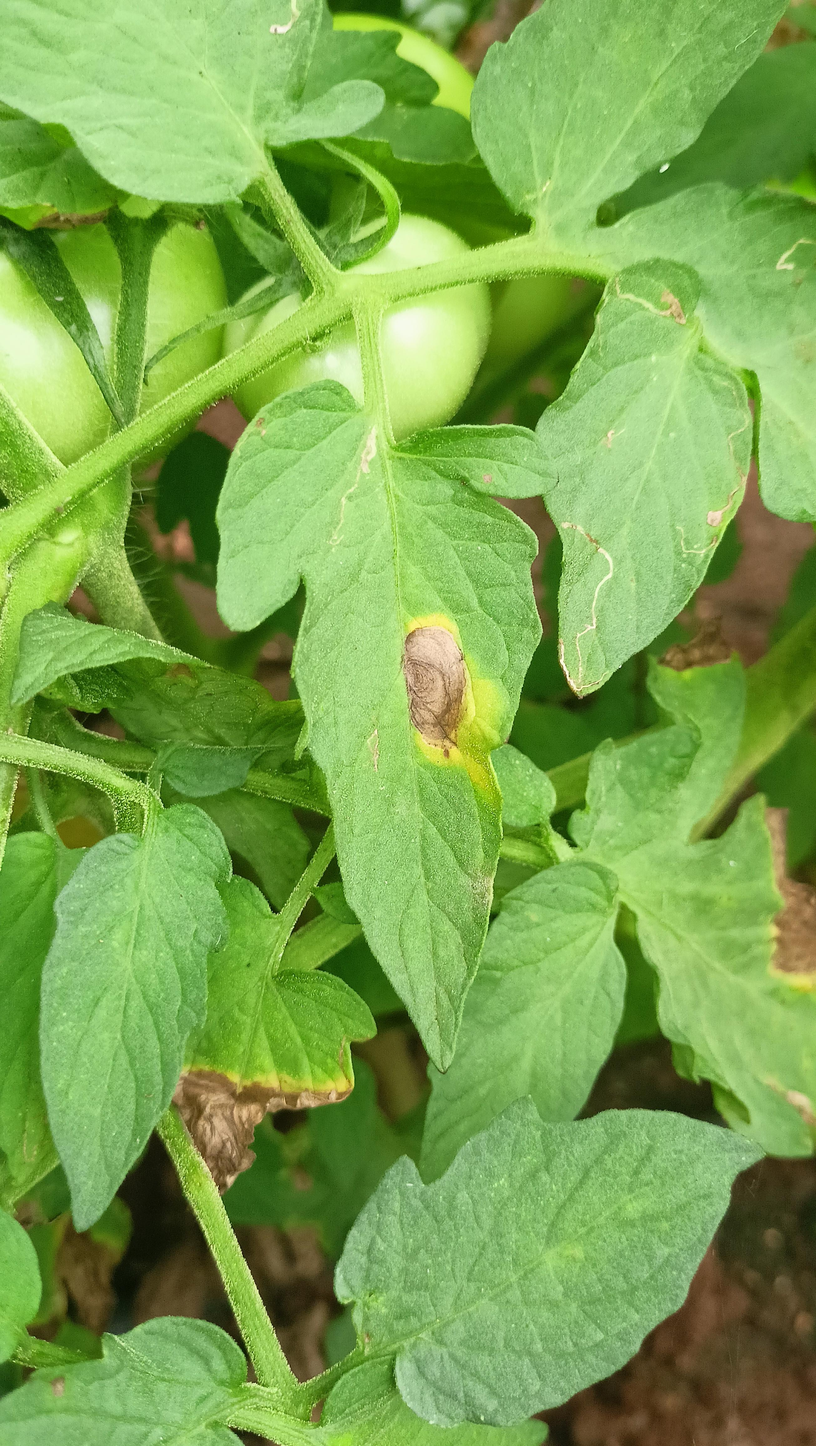Early Blight: (210, 374, 552, 1077), (156, 868, 389, 1201)
Healthy: (327, 1096, 768, 1429), (36, 791, 235, 1235), (416, 854, 632, 1182)
Leaf_Miner: (554, 505, 618, 690)
